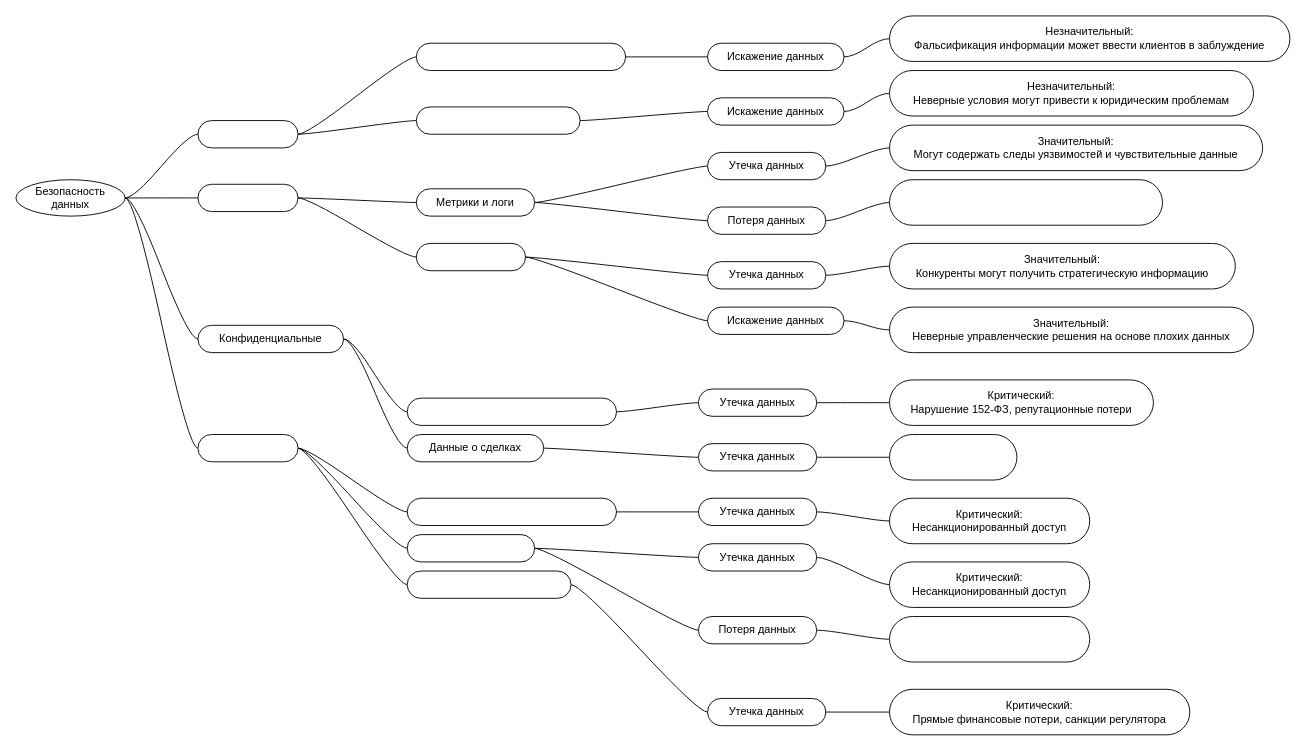
The diagram is 1306 pixels wide and 751 high, and some of its shapes have lost their labels. The centre of each missing label's shape, as x and y in pixels:
BI-отчётность: point (470, 257)
Внутренние: point (247, 197)
Значительный: Невозможность расследования инцидентов: point (1026, 202)
Ключи и токены: point (470, 548)
Критический: Мошенничество: point (953, 457)
Критический: Неработоспособность сервисов: point (989, 639)
Общая информация о компании: point (520, 56)
Персональные данные клиентов: point (511, 411)
Публичные: point (247, 134)
Секретные: point (247, 448)
Условия бронирования: point (497, 120)
Учетные записи пользователей: point (511, 511)
Финансовые реквизиты: point (488, 584)
